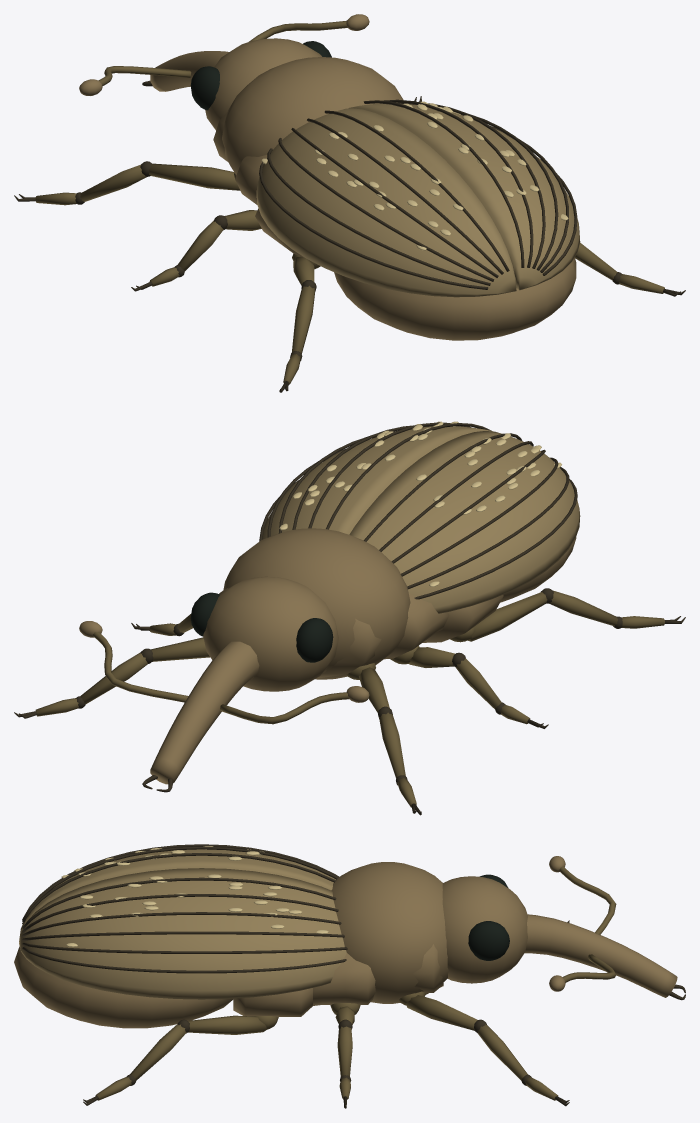
Rendered from Weevil.fbx.
3 renders of one model, top to bottom at view 1: azimuth 30°, elevation 25°; view 2: azimuth 150°, elevation 25°; view 3: azimuth 270°, elevation 25°, orthographic. The views are drawn at different scales.
Visible parts, largest first — view 1: Material group Weevil_Umber_elytra, Material group Weevil_Ochre_cuticle, Material group Weevil_Dark_joints, Material group Weevil_Leg_cuticle, Material group Weevil_Pale_scales, Material group Weevil_Eyes; view 2: Material group Weevil_Ochre_cuticle, Material group Weevil_Umber_elytra, Material group Weevil_Leg_cuticle, Material group Weevil_Dark_joints, Material group Weevil_Pale_scales, Material group Weevil_Eyes; view 3: Material group Weevil_Umber_elytra, Material group Weevil_Ochre_cuticle, Material group Weevil_Dark_joints, Material group Weevil_Leg_cuticle, Material group Weevil_Pale_scales, Material group Weevil_Eyes.
Part boxes in pixels (x1=…): Material group Weevil_Umber_elytra: x1=256, y1=103, x2=580, y2=297; Material group Weevil_Ochre_cuticle: x1=79, y1=14, x2=576, y2=340; Material group Weevil_Dark_joints: x1=14, y1=80, x2=685, y2=392; Material group Weevil_Leg_cuticle: x1=35, y1=20, x2=664, y2=384; Material group Weevil_Pale_scales: x1=261, y1=101, x2=568, y2=250; Material group Weevil_Eyes: x1=190, y1=41, x2=331, y2=110; Material group Weevil_Ochre_cuticle: x1=79, y1=528, x2=576, y2=784; Material group Weevil_Umber_elytra: x1=262, y1=426, x2=580, y2=613; Material group Weevil_Leg_cuticle: x1=35, y1=590, x2=664, y2=807; Material group Weevil_Dark_joints: x1=14, y1=422, x2=685, y2=815; Material group Weevil_Pale_scales: x1=279, y1=421, x2=561, y2=586; Material group Weevil_Eyes: x1=190, y1=592, x2=333, y2=662; Material group Weevil_Umber_elytra: x1=19, y1=849, x2=346, y2=999; Material group Weevil_Ochre_cuticle: x1=14, y1=856, x2=677, y2=1028; Material group Weevil_Dark_joints: x1=22, y1=844, x2=685, y2=1108; Material group Weevil_Leg_cuticle: x1=95, y1=866, x2=616, y2=1100; Material group Weevil_Pale_scales: x1=61, y1=846, x2=328, y2=947; Material group Weevil_Eyes: x1=468, y1=874, x2=509, y2=960.
Size of the model in its own units: 0.6575 by 0.2491 by 1.
